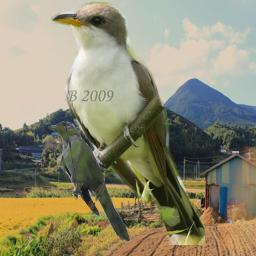Cuckoo: (51, 0, 205, 245), (48, 121, 134, 243)
